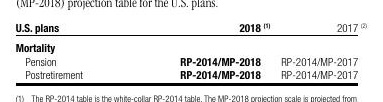table: (0, 0, 383, 102)
